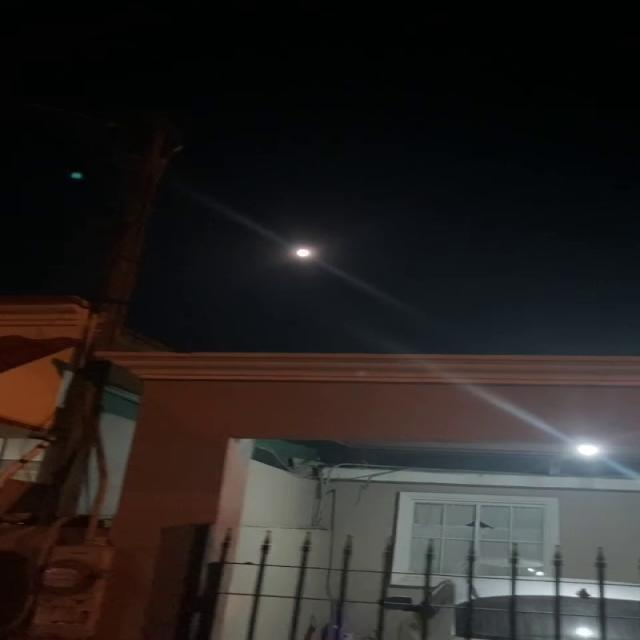moon: (291, 234, 323, 266)
